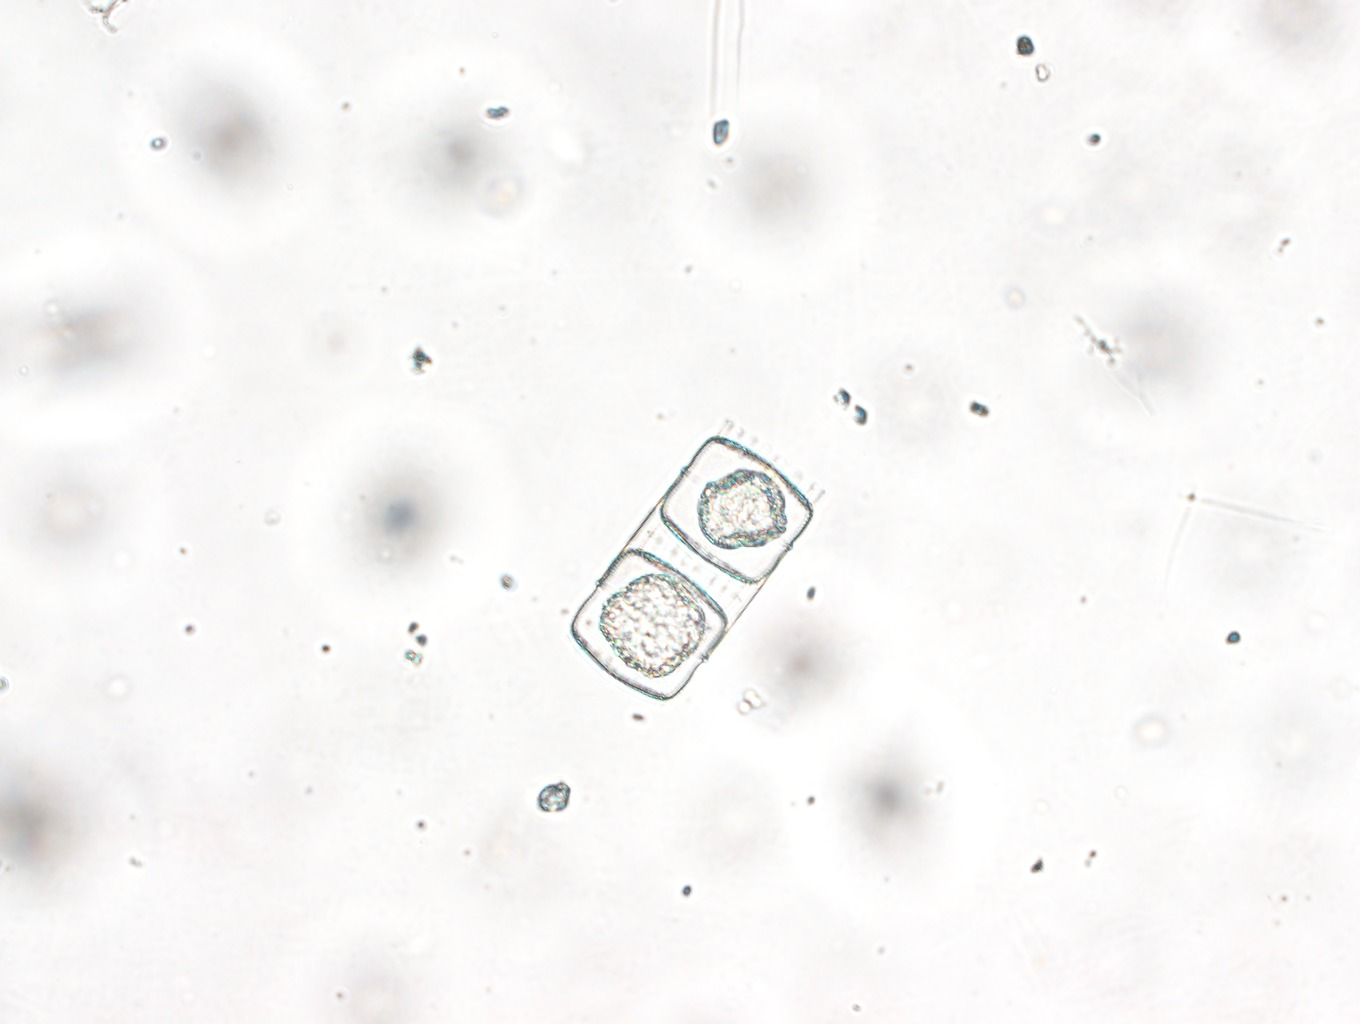corethron: (570, 423, 825, 702)
